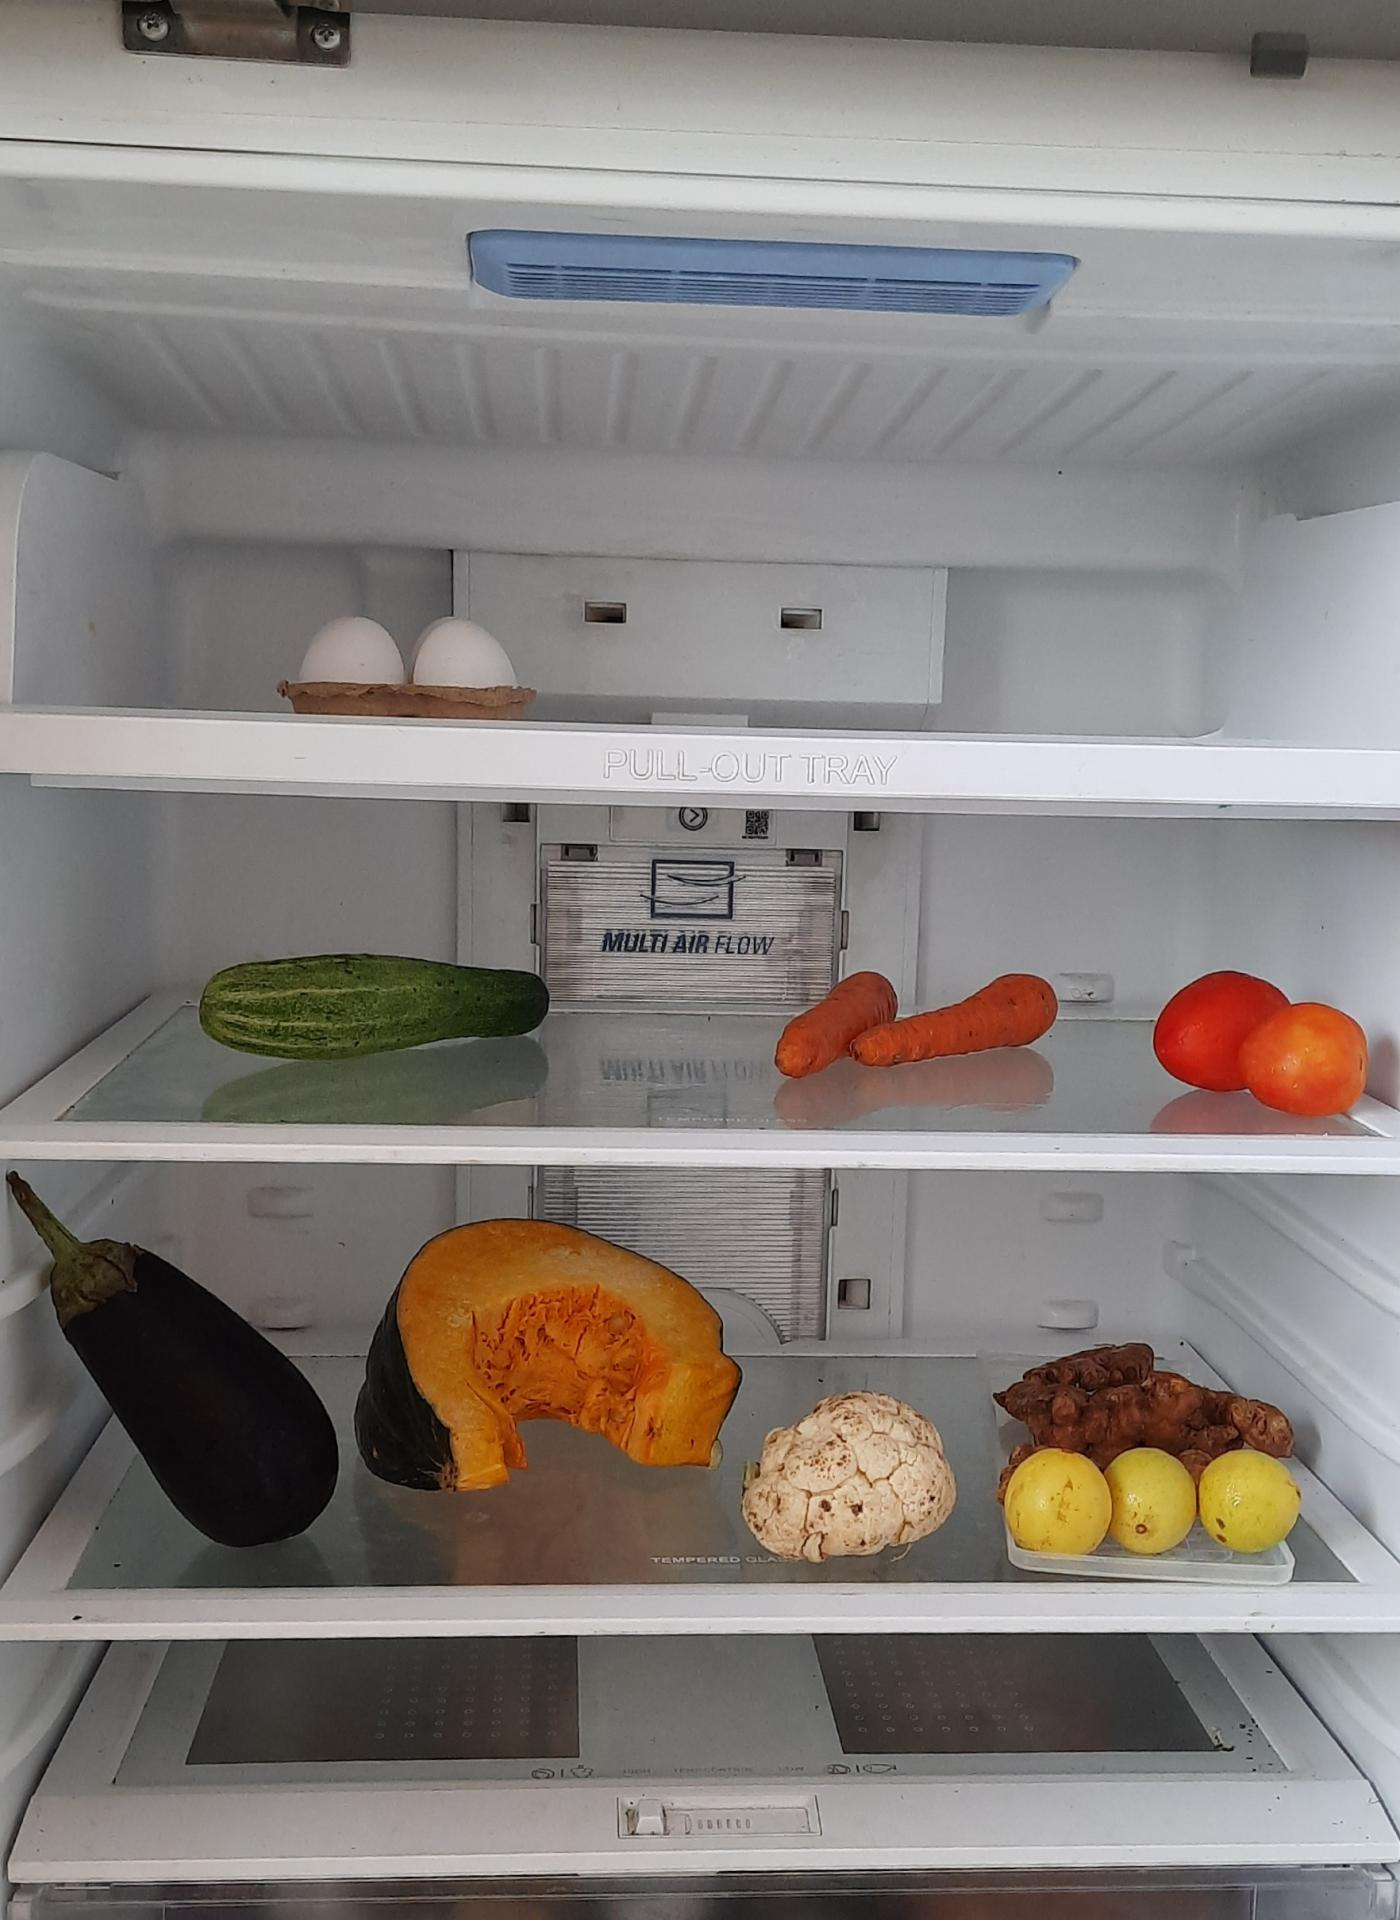brinjal: (15, 1181, 338, 1568)
carrots: (774, 967, 1065, 1087)
cauliflower: (742, 1392, 968, 1559)
cucumber: (189, 961, 559, 1069)
egg: (289, 608, 532, 708)
ginger: (1000, 1331, 1305, 1465)
lemon: (994, 1443, 1299, 1558)
pumpkin: (365, 1218, 738, 1486)
tomato: (1158, 967, 1384, 1121)
